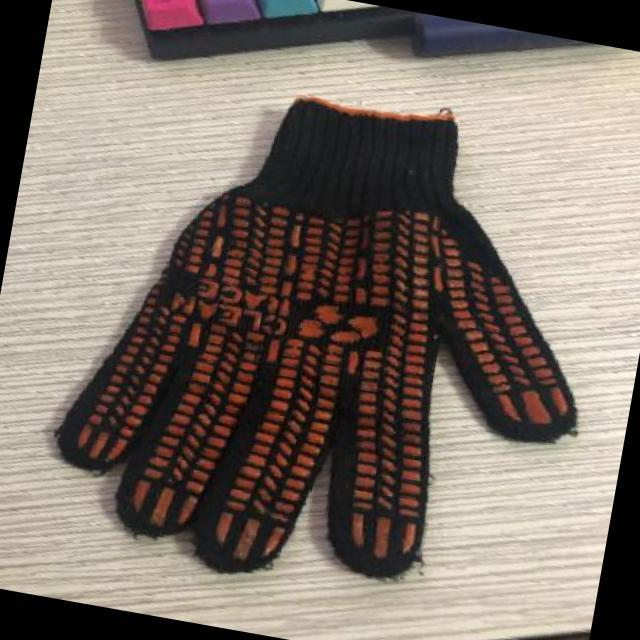glove: (48, 88, 592, 578)
